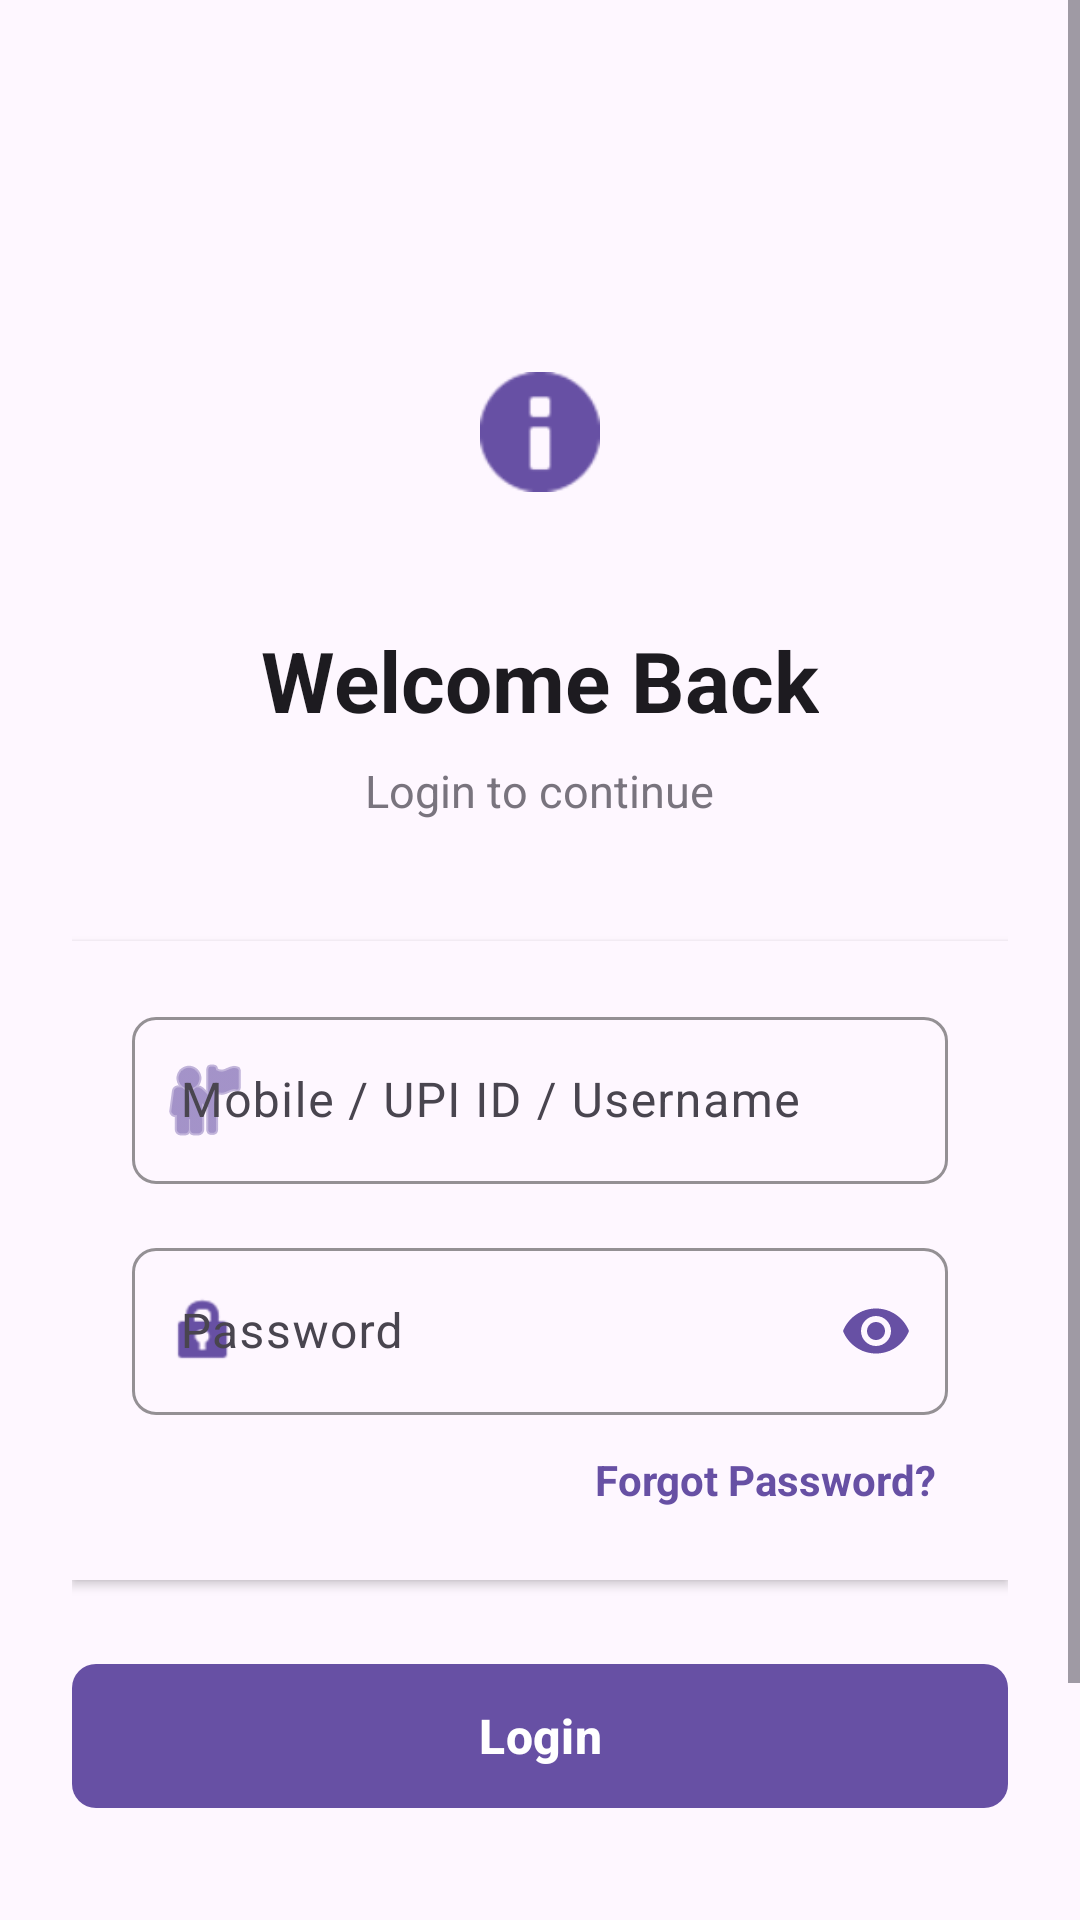

Named icons in this screenshot (1080*1920) and their bounding boxes, (x1, y1, x2, y2):
info: (480, 372, 600, 492)
